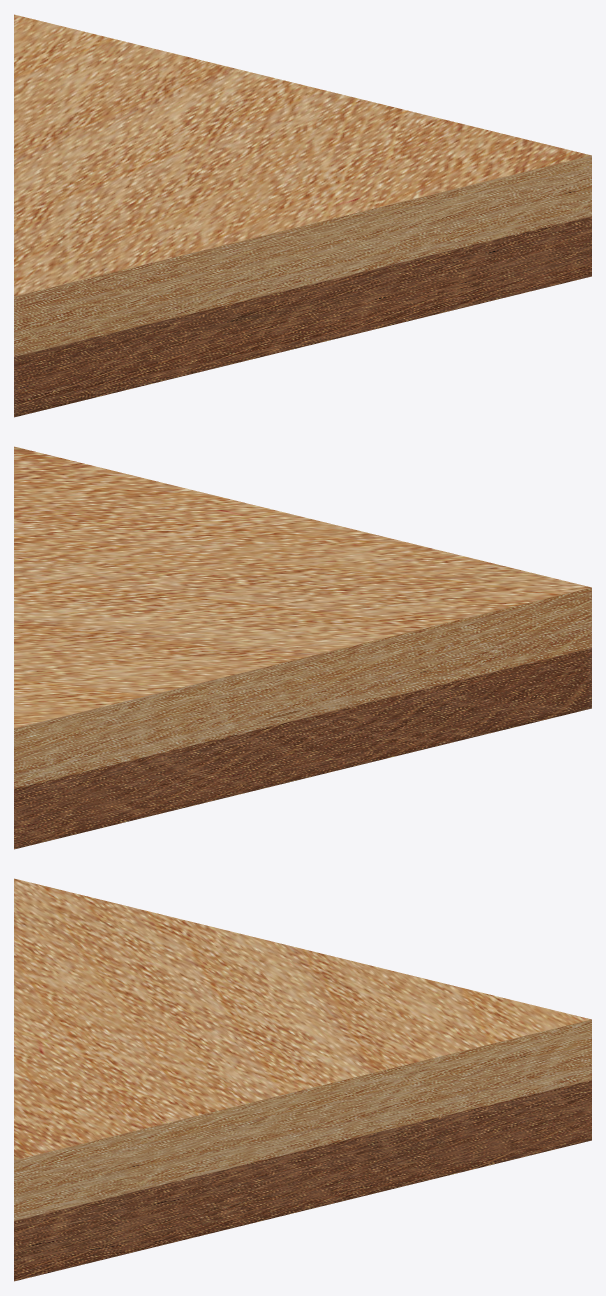
Rendered from TriangleLowPoly.FBX.
The picture shows the model from 3 angles, top to bottom: view 1: azimuth 30°, elevation 25°; view 2: azimuth 150°, elevation 25°; view 3: azimuth 270°, elevation 25°; orthographic projection.
Visible parts, largest first — view 1: TriangleLowPoly; view 2: TriangleLowPoly; view 3: TriangleLowPoly.
Boxes of the visible parts, box(x1,y1,x2,y2) form: TriangleLowPoly: box(14, 14, 591, 417); TriangleLowPoly: box(14, 446, 591, 849); TriangleLowPoly: box(14, 878, 591, 1281).
Size of the model in its own units: 10 by 2 by 8.66.
